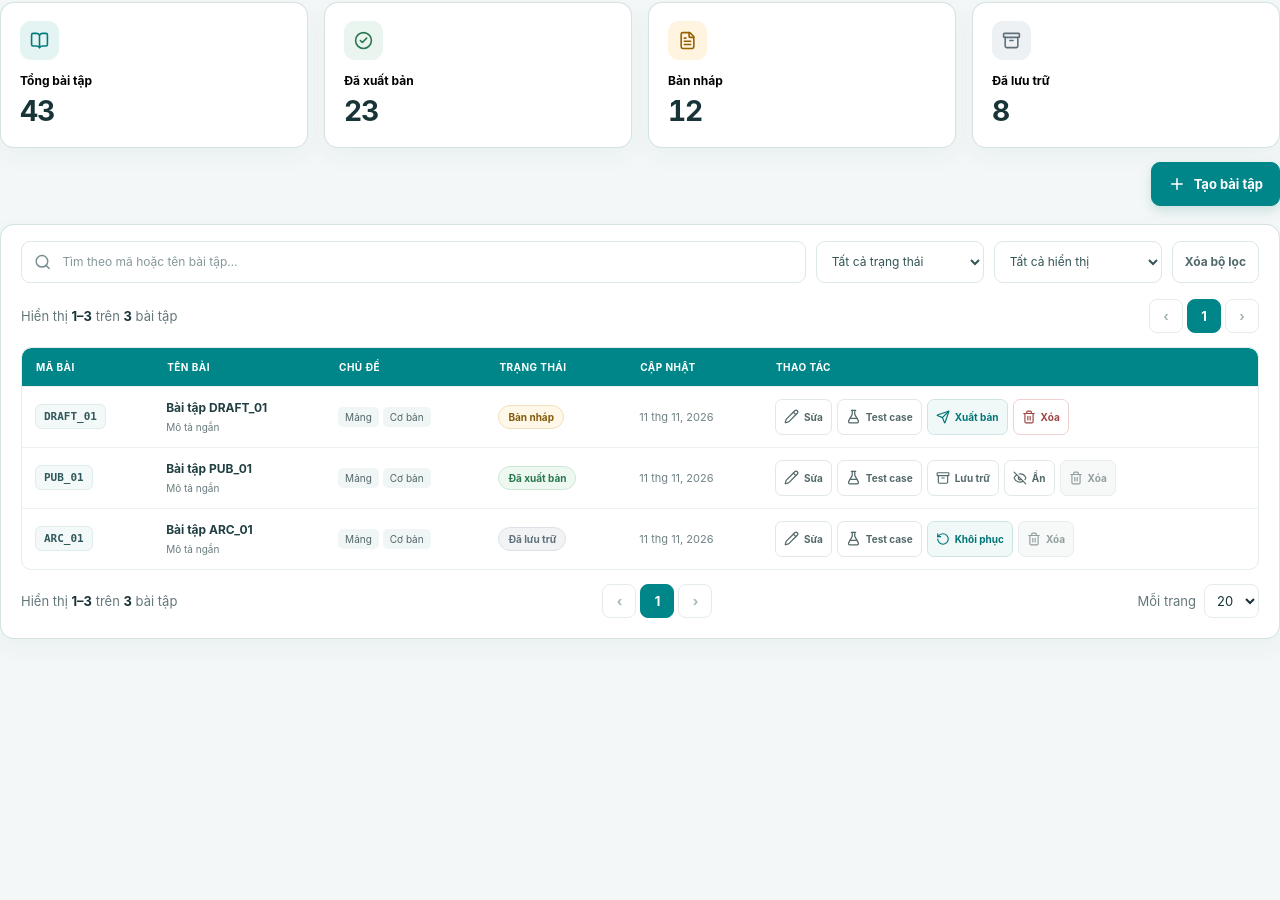
AdminProblemsPage › requires confirmation to hide and sends no request when cancelled
The image size is (1280, 900).
Click the button with aria-label "Ẩn PUB_01 khỏi danh sách bài tập công khai": (1029, 478) top-left (1004, 460), bottom-right (1054, 496)
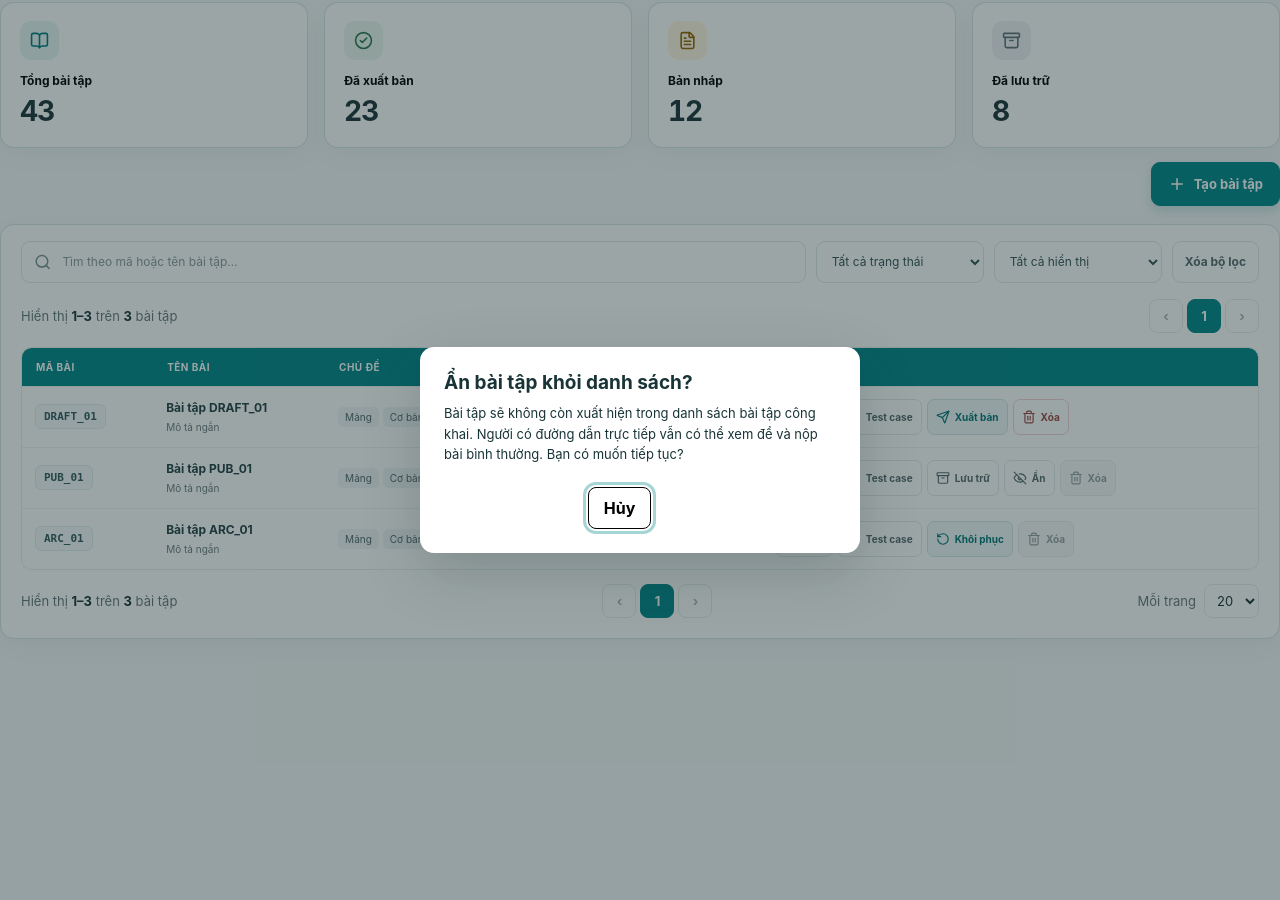
Expected: the dialog shows "Ẩn bài tập khỏi danh sách?", top-left (444, 371), bottom-right (692, 394)
Expected: the dialog shows "Bài tập sẽ không còn xuất hiện trong danh sách bài tập công khai. Người có đường dẫn trực tiếp vẫn có thể xem đề và nộp bài bình thường. Bạn có muốn tiếp tục?", top-left (444, 405), bottom-right (818, 462)
Click the button "Hủy": (620, 508) top-left (588, 487), bottom-right (651, 529)
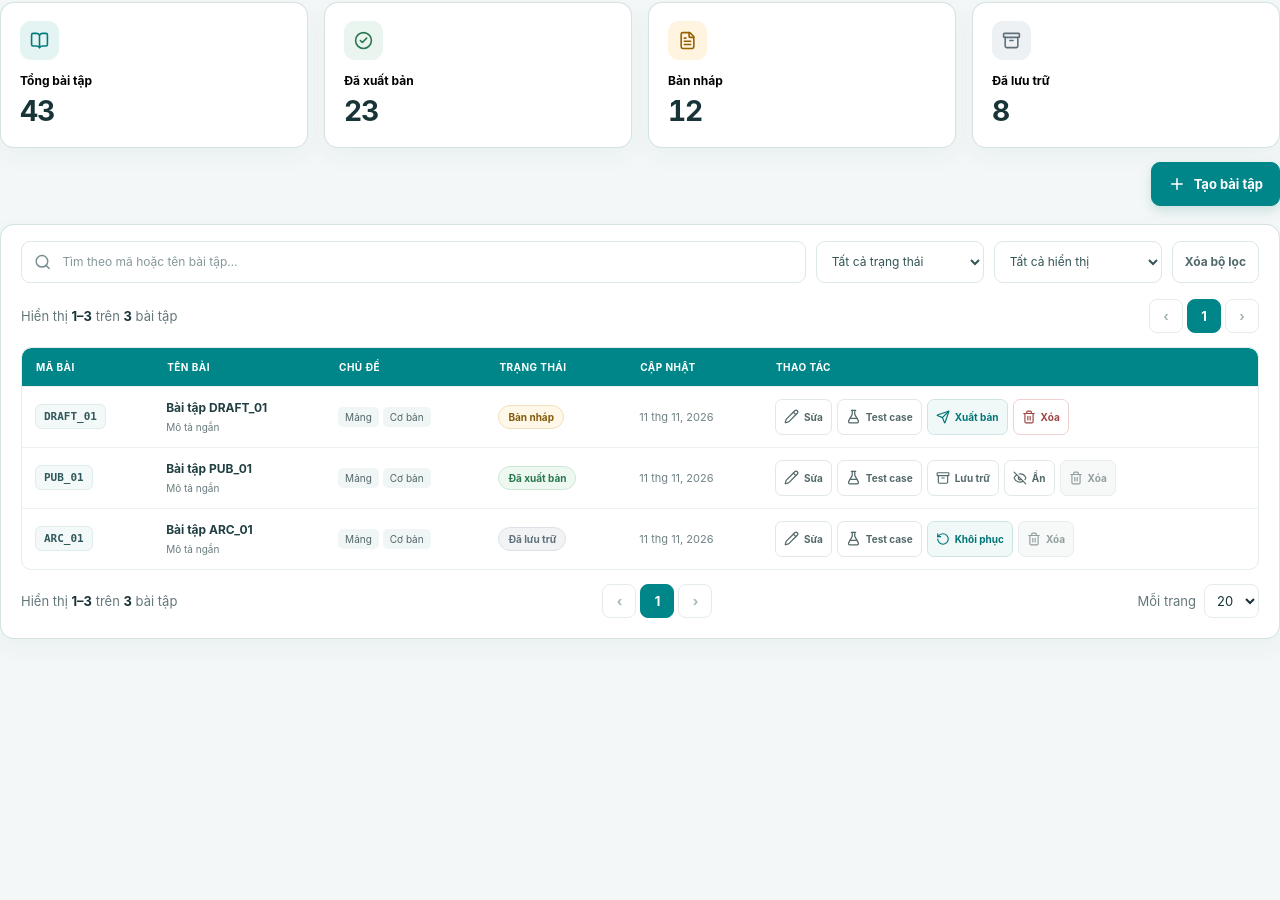
Expected: the dialog is gone
